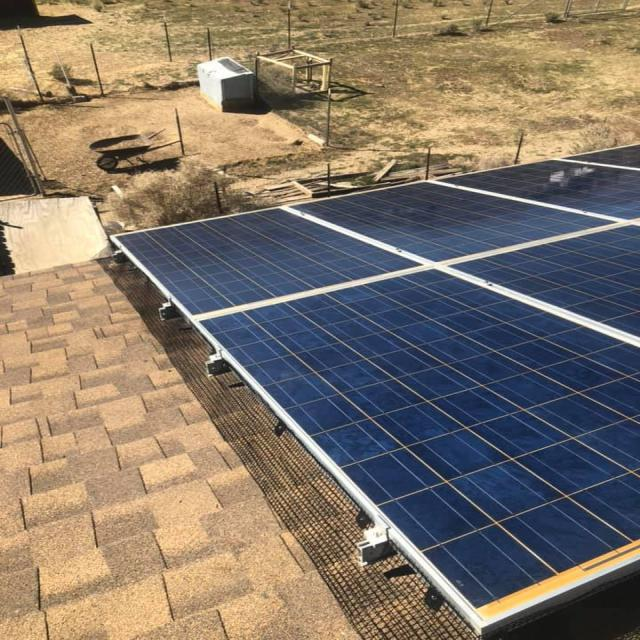clean-solar-panel: (113, 146, 638, 631)
